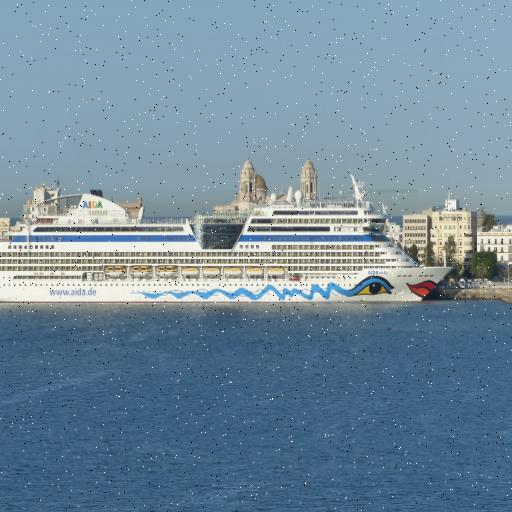cruises: (1, 192, 454, 308)
